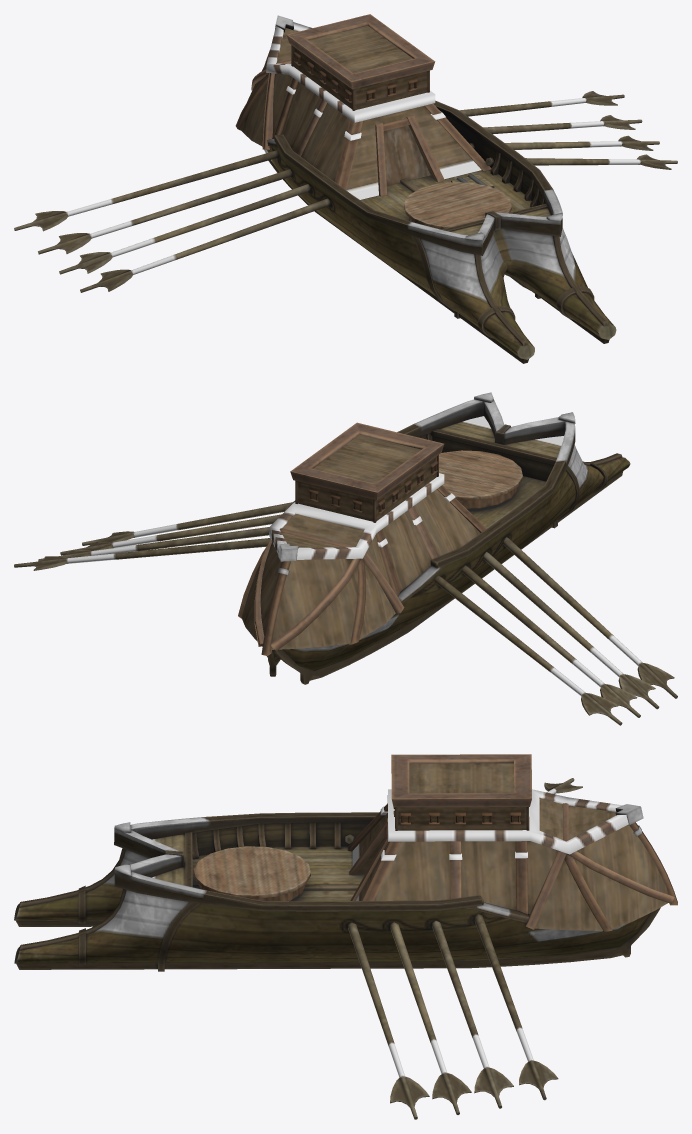
Rendered from 252-siegebireme.glb.
3 views of the same model, one above another, from view 1: azimuth 30°, elevation 25°; view 2: azimuth 150°, elevation 25°; view 3: azimuth 270°, elevation 25° (orthographic). The views are drawn at different scales.
Bounding box in the file's own units: 7.93 × 2.19 × 7.03.
1 material, 1 textured.
